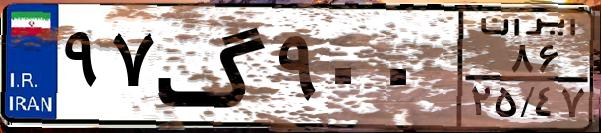0: (385, 28, 445, 110), (330, 28, 385, 110)
2: (470, 70, 495, 125)
4: (535, 70, 560, 125)
5: (495, 70, 520, 125)
6: (537, 27, 568, 80)
7: (110, 28, 156, 98), (560, 70, 590, 125)
8: (508, 27, 537, 80)
9: (270, 28, 330, 110), (57, 26, 110, 100)
گ: (156, 12, 270, 120)
